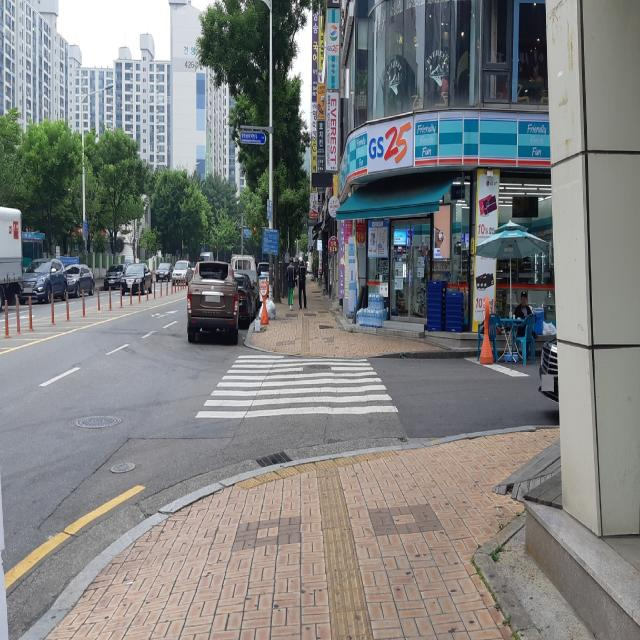횡단보도: (194, 353, 399, 420)
